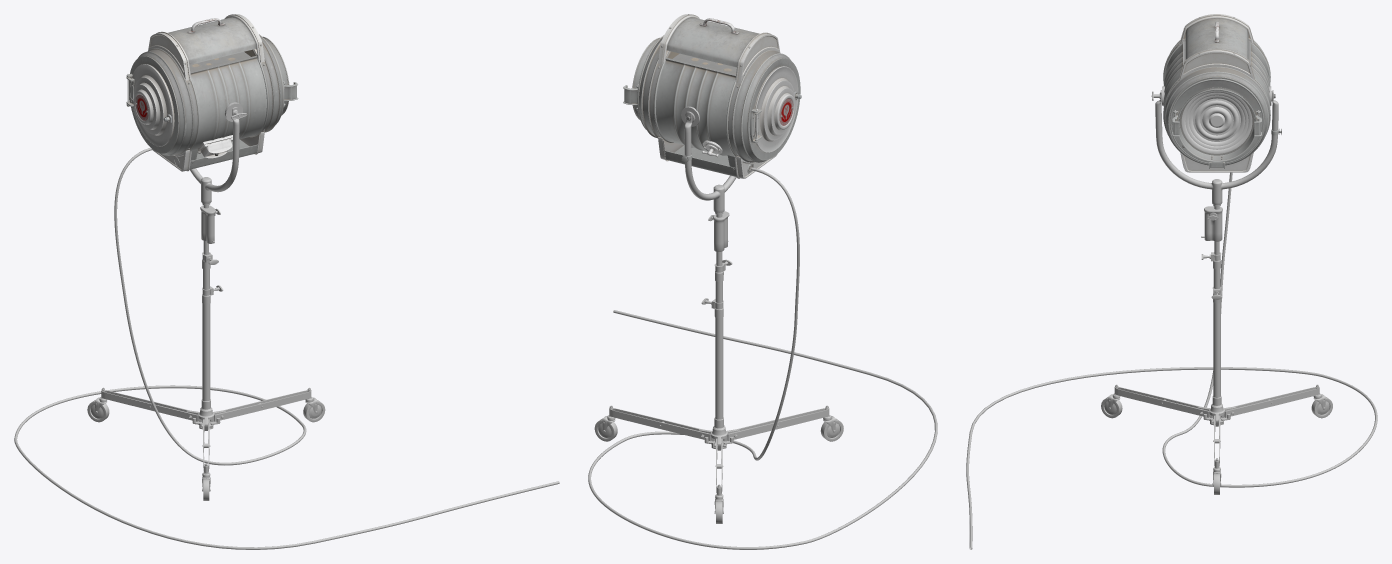
File: Sktchfab.fbx
The picture shows the model from 3 angles, left to right: view 1: azimuth 30°, elevation 25°; view 2: azimuth 150°, elevation 25°; view 3: azimuth 270°, elevation 25°; orthographic projection. The views are drawn at different scales.
Parts seen in each view (by area): view 1: Body; view 2: Body; view 3: Body.
Boxes of the visible parts, bbox=[...] form: Body: bbox=[14, 14, 559, 549]; Body: bbox=[588, 14, 937, 549]; Body: bbox=[966, 14, 1377, 549].
Bounding box in the file's own units: 162 × 174 × 156.
